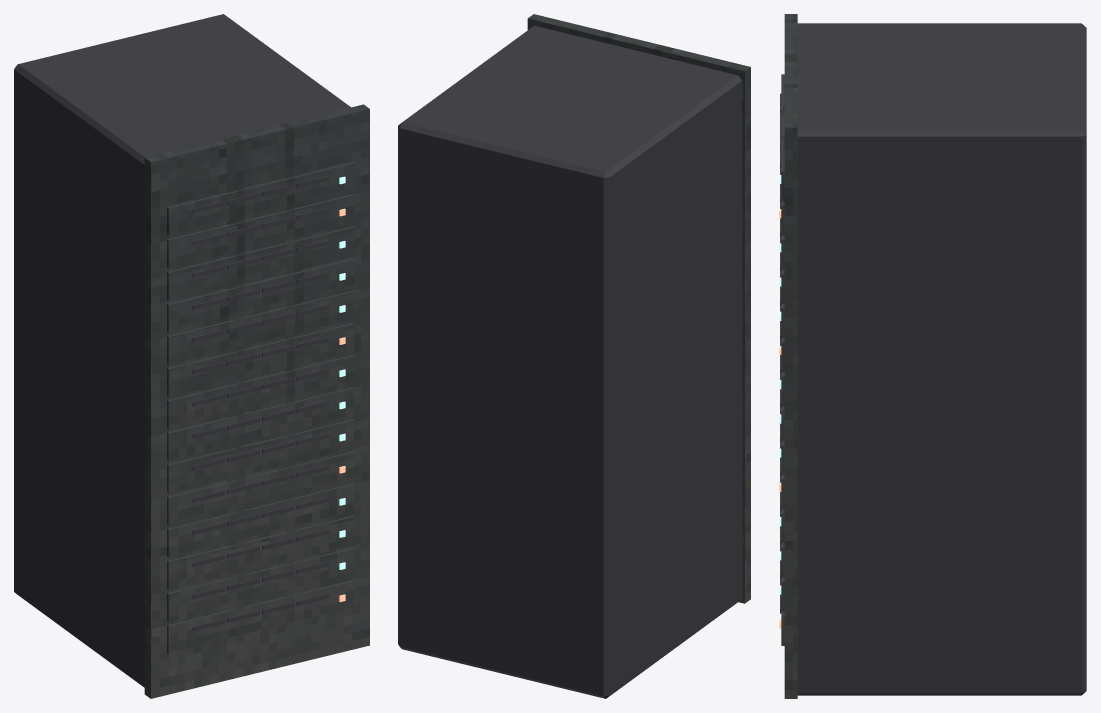
The model's file is server_rack.glb.
3 renders of one model, left to right at view 1: azimuth 30°, elevation 25°; view 2: azimuth 150°, elevation 25°; view 3: azimuth 270°, elevation 25°, orthographic. The views are drawn at different scales.
Visible parts, largest first — view 1: body, leds_on; view 2: body; view 3: body.
Boxes of the visible parts, left/top/right/bottom form: body: left=14, top=14, right=369, bottom=698; leds_on: left=339, top=176, right=345, bottom=602; body: left=398, top=14, right=750, bottom=698; body: left=780, top=14, right=1086, bottom=698.
Size of the model in its own units: 0.82 by 1.92 by 0.936.
Materials: 5 (1 with a texture image).
